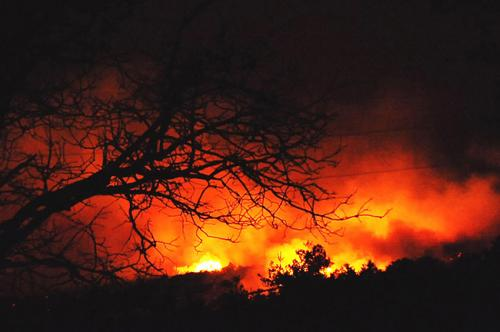fire: (343, 201, 401, 234), (186, 230, 232, 271), (328, 245, 385, 275), (270, 244, 305, 266)
